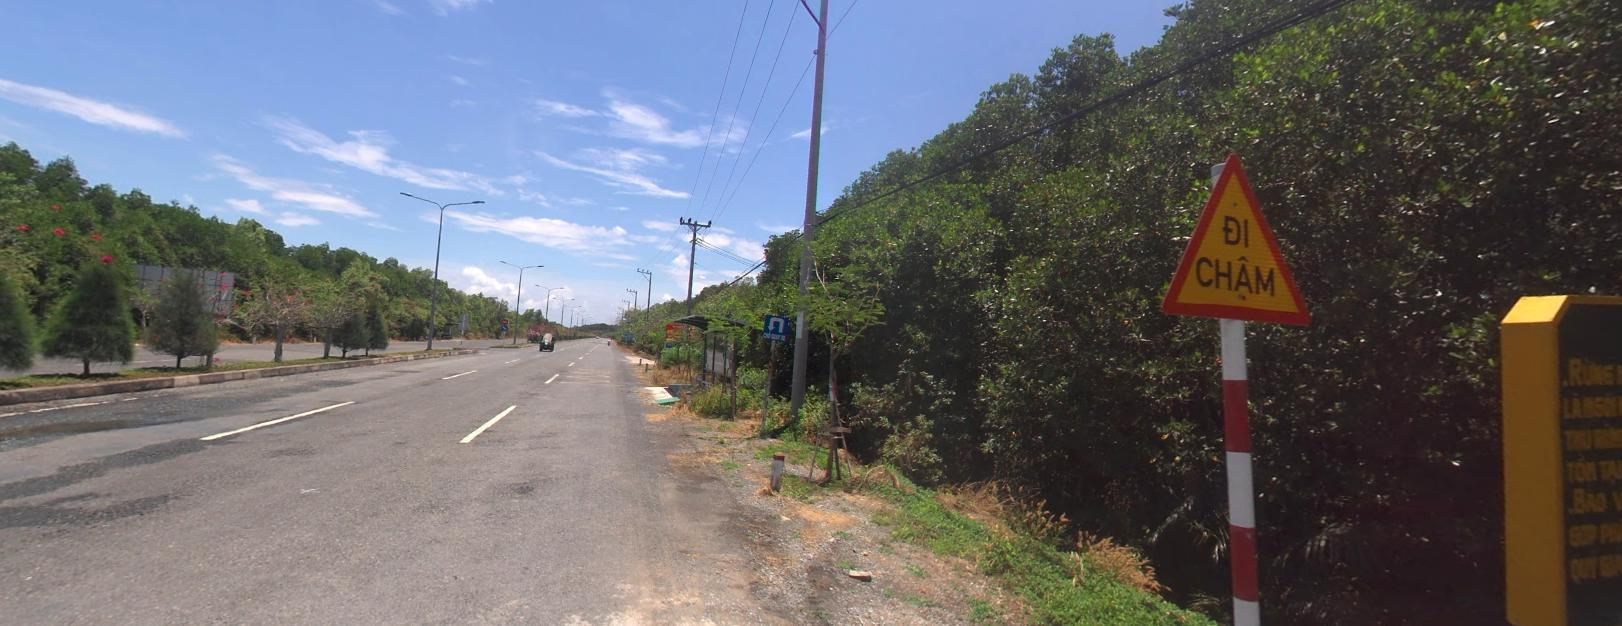Cam nguoc chieu: (501, 317, 507, 322)
Hieu lenh: (501, 323, 507, 328)
Nguy hiem: (1160, 149, 1313, 324)
